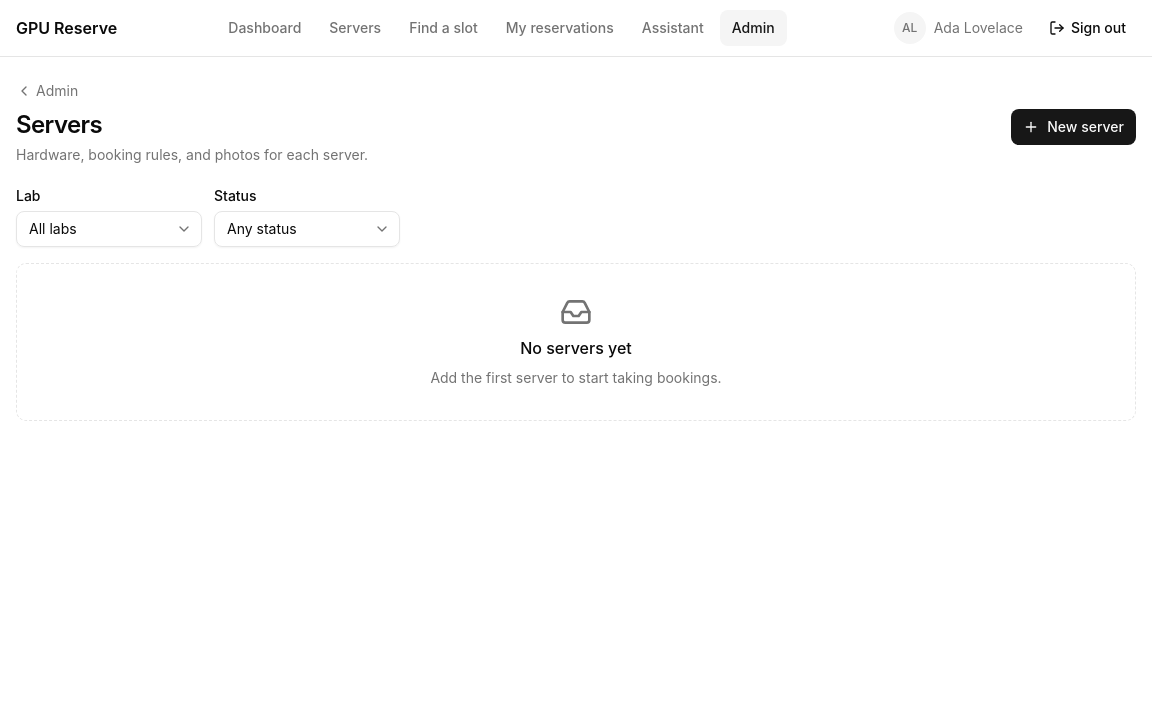
creating a server › creates the server and shows it in the list
This screenshot has width=1152, height=720.
Click the button "New server" at (1074, 127), box [1011, 109, 1136, 145]
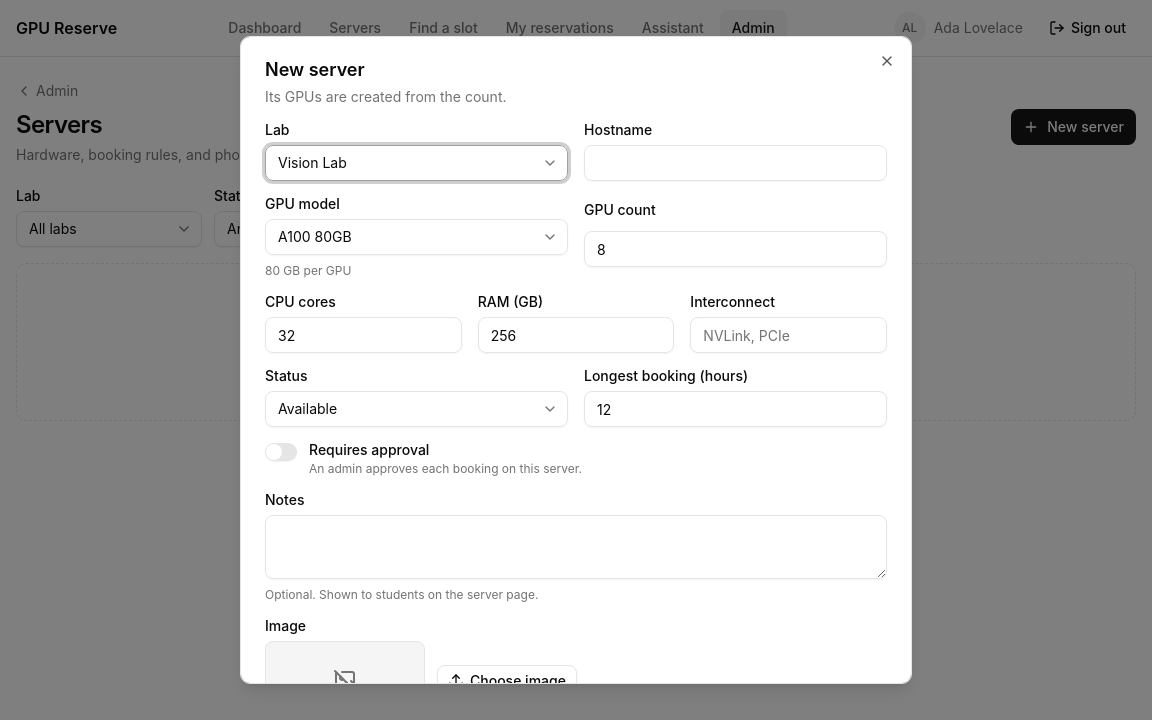
Select "NLP Lab" in the dropdown labelled "Lab" at (416, 163), box [265, 145, 568, 181]
Type "NLP-H100-01" into the field labelled "Hostname" at (736, 163), box [584, 145, 887, 181]
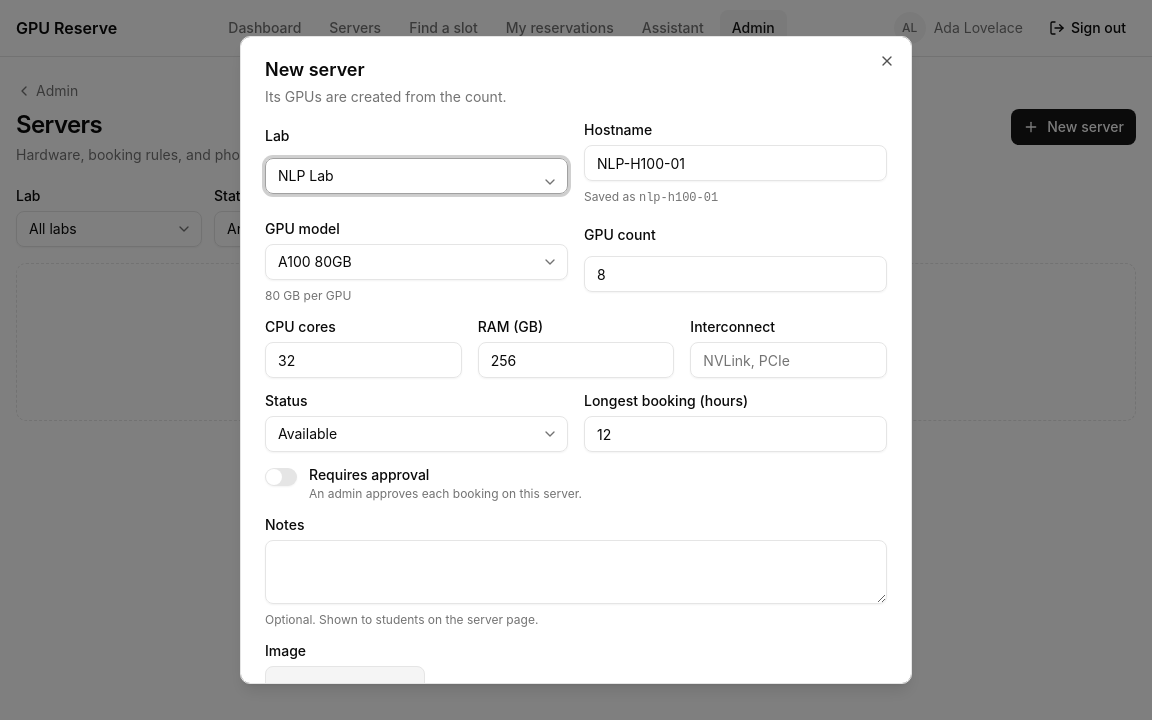
Select "H100 80GB" in the dropdown labelled "GPU model" at (416, 262), box [265, 244, 568, 280]
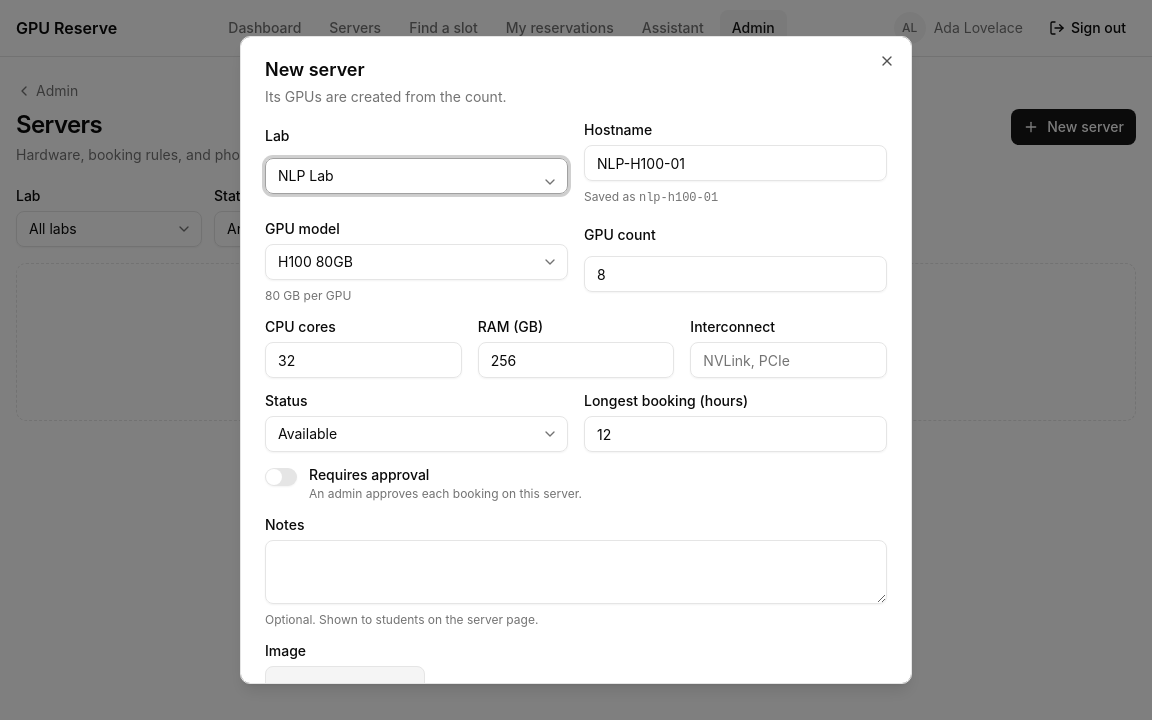
Replace the text in the number field labelled "GPU count" with "4" at (736, 274), box [584, 256, 887, 292]
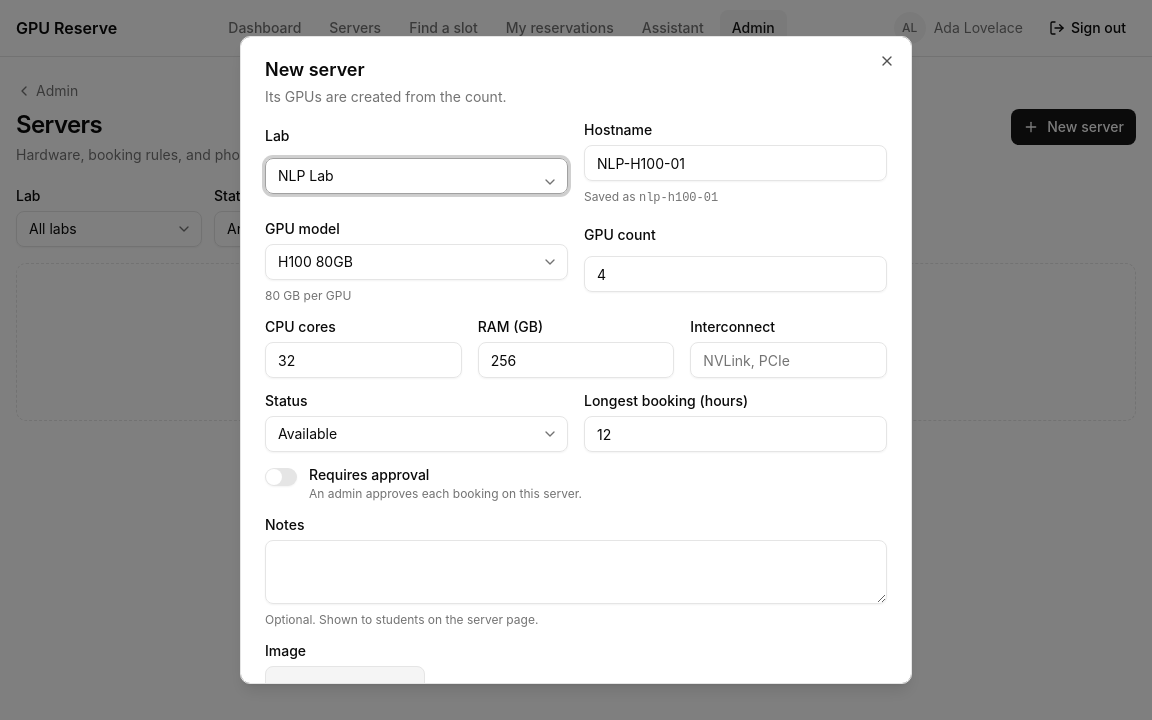
Click the switch named "Requires approval" at (281, 477), box [265, 468, 297, 486]
(page scrolled)
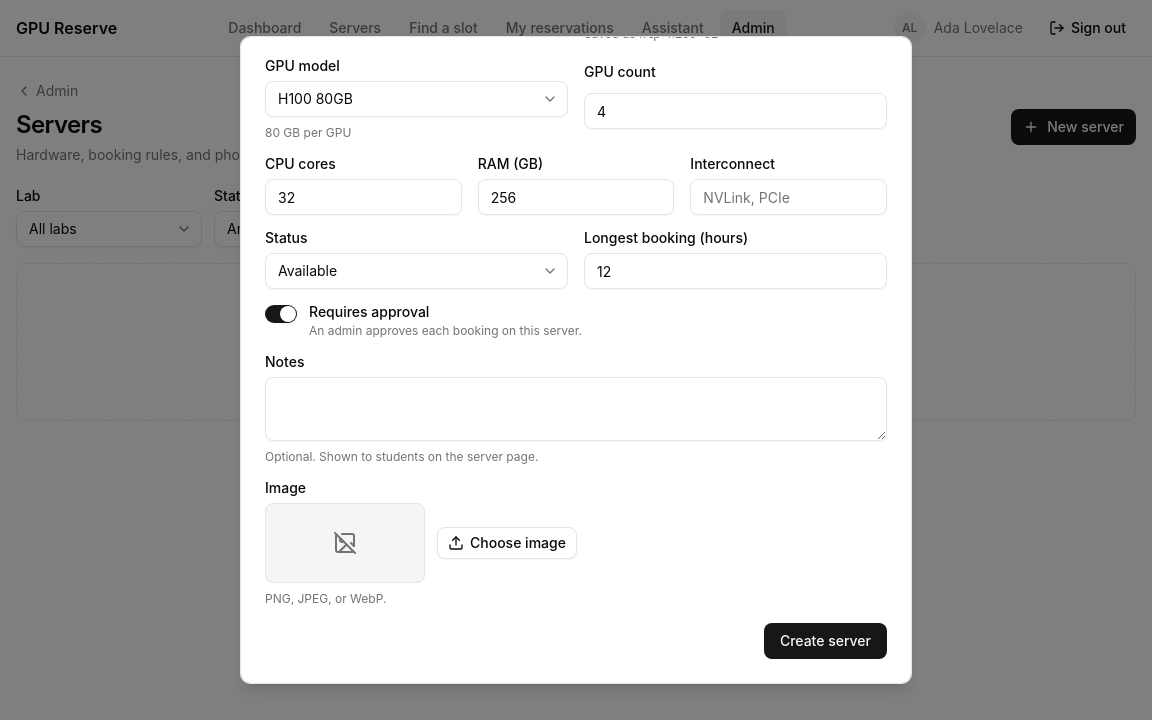
Click the button "Create server" at (825, 641), box [764, 623, 887, 659]
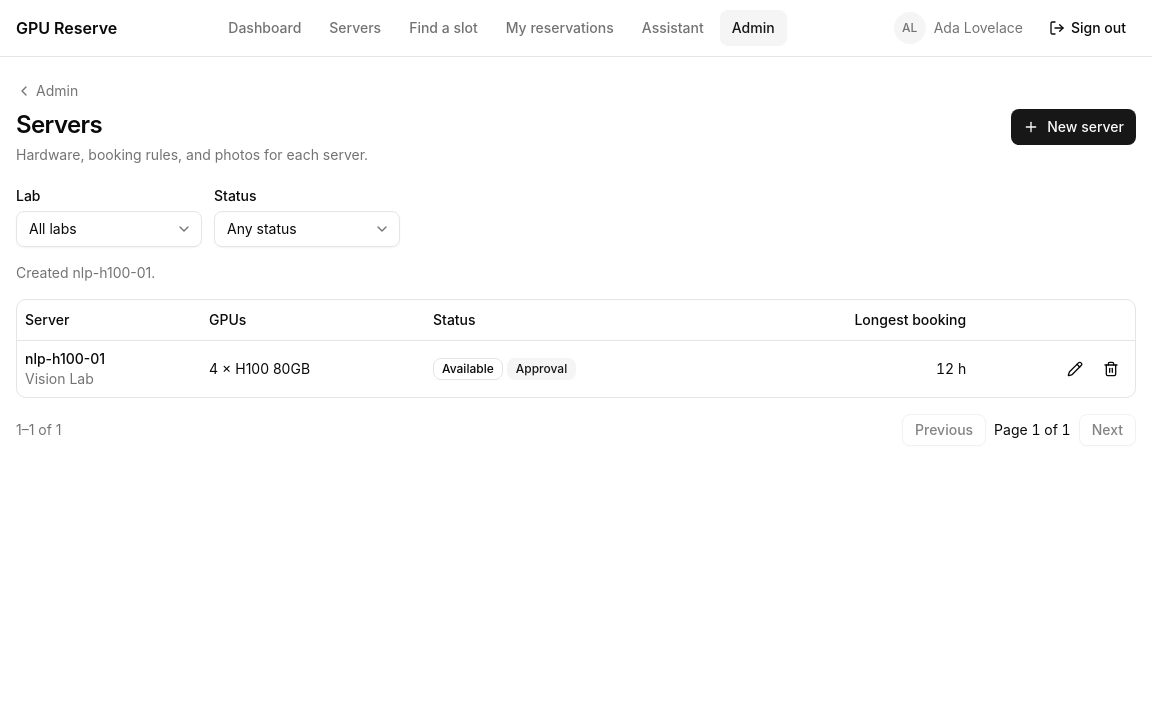
Check: the text "Created nlp-h100-01." is shown, box [16, 264, 155, 281]
Check: the row "nlp-h100-01" is shown, box [17, 340, 1135, 396]
